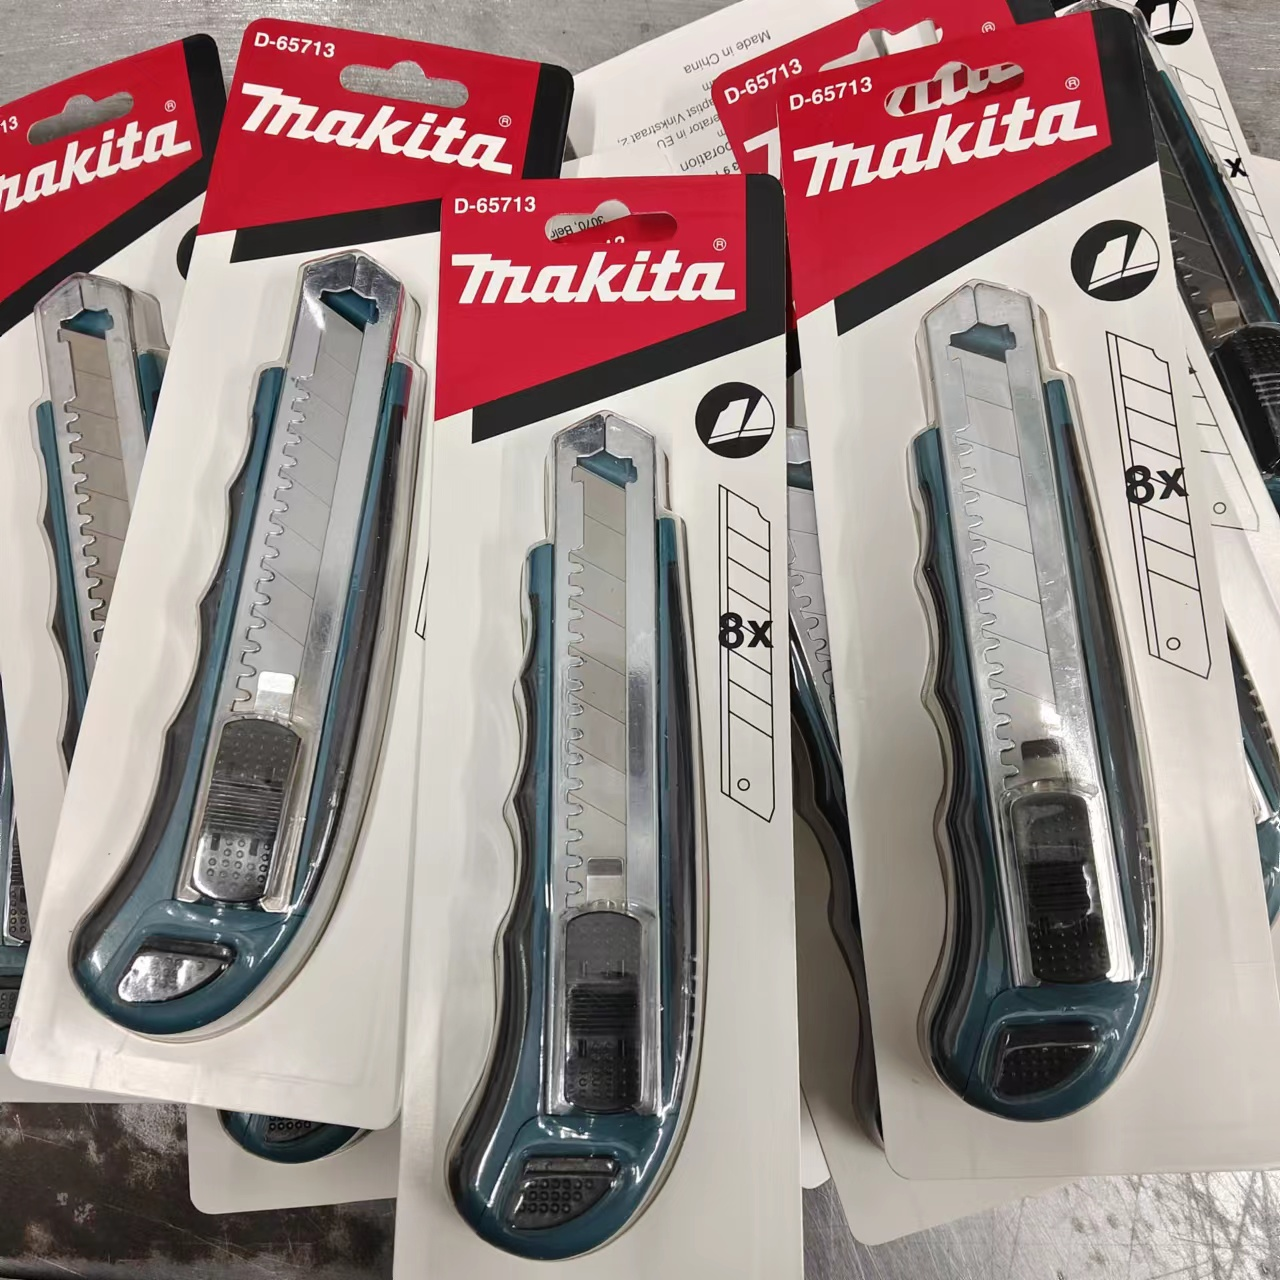cutter: (69, 251, 423, 1043), (445, 409, 703, 1264), (907, 280, 1165, 1125), (1044, 2, 1280, 524), (768, 424, 890, 1148), (34, 273, 172, 782), (1217, 602, 1280, 922)
